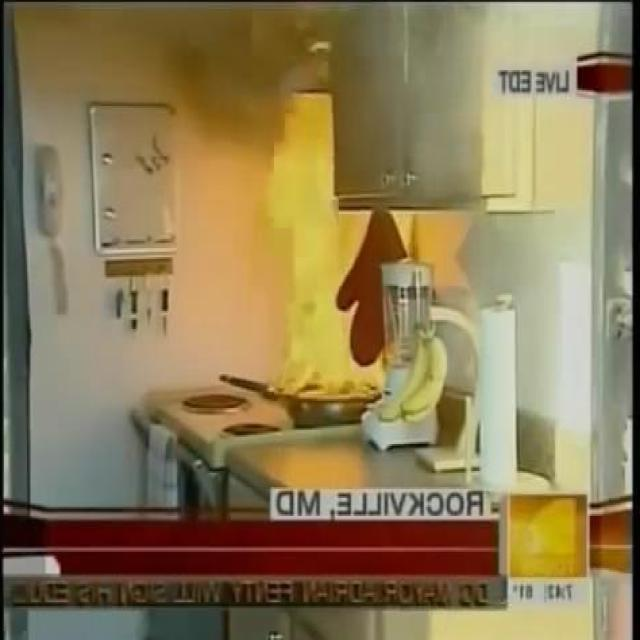fire: (350, 5, 630, 228), (168, 0, 305, 140)
smoke: (274, 144, 381, 394)
